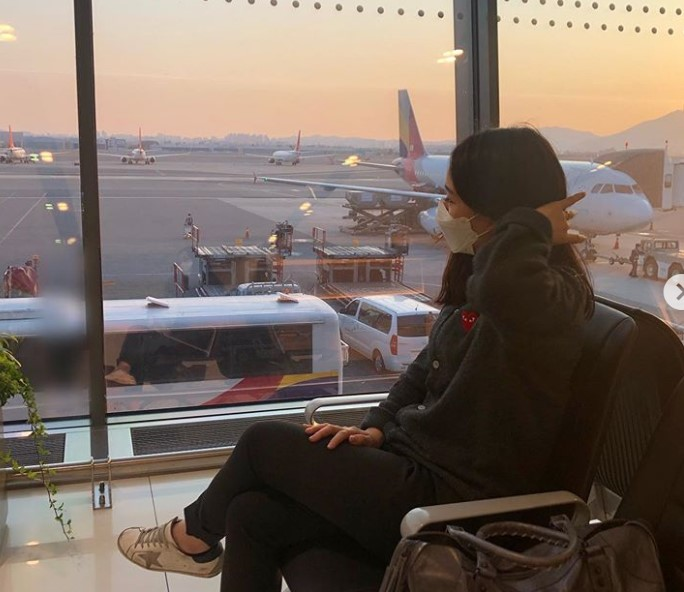face_with_mask: (436, 135, 559, 256)
